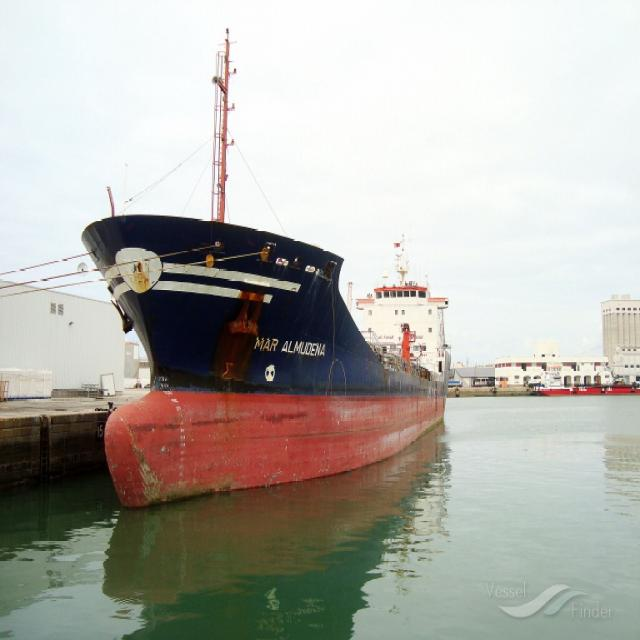OCR: (249, 323, 328, 367)
